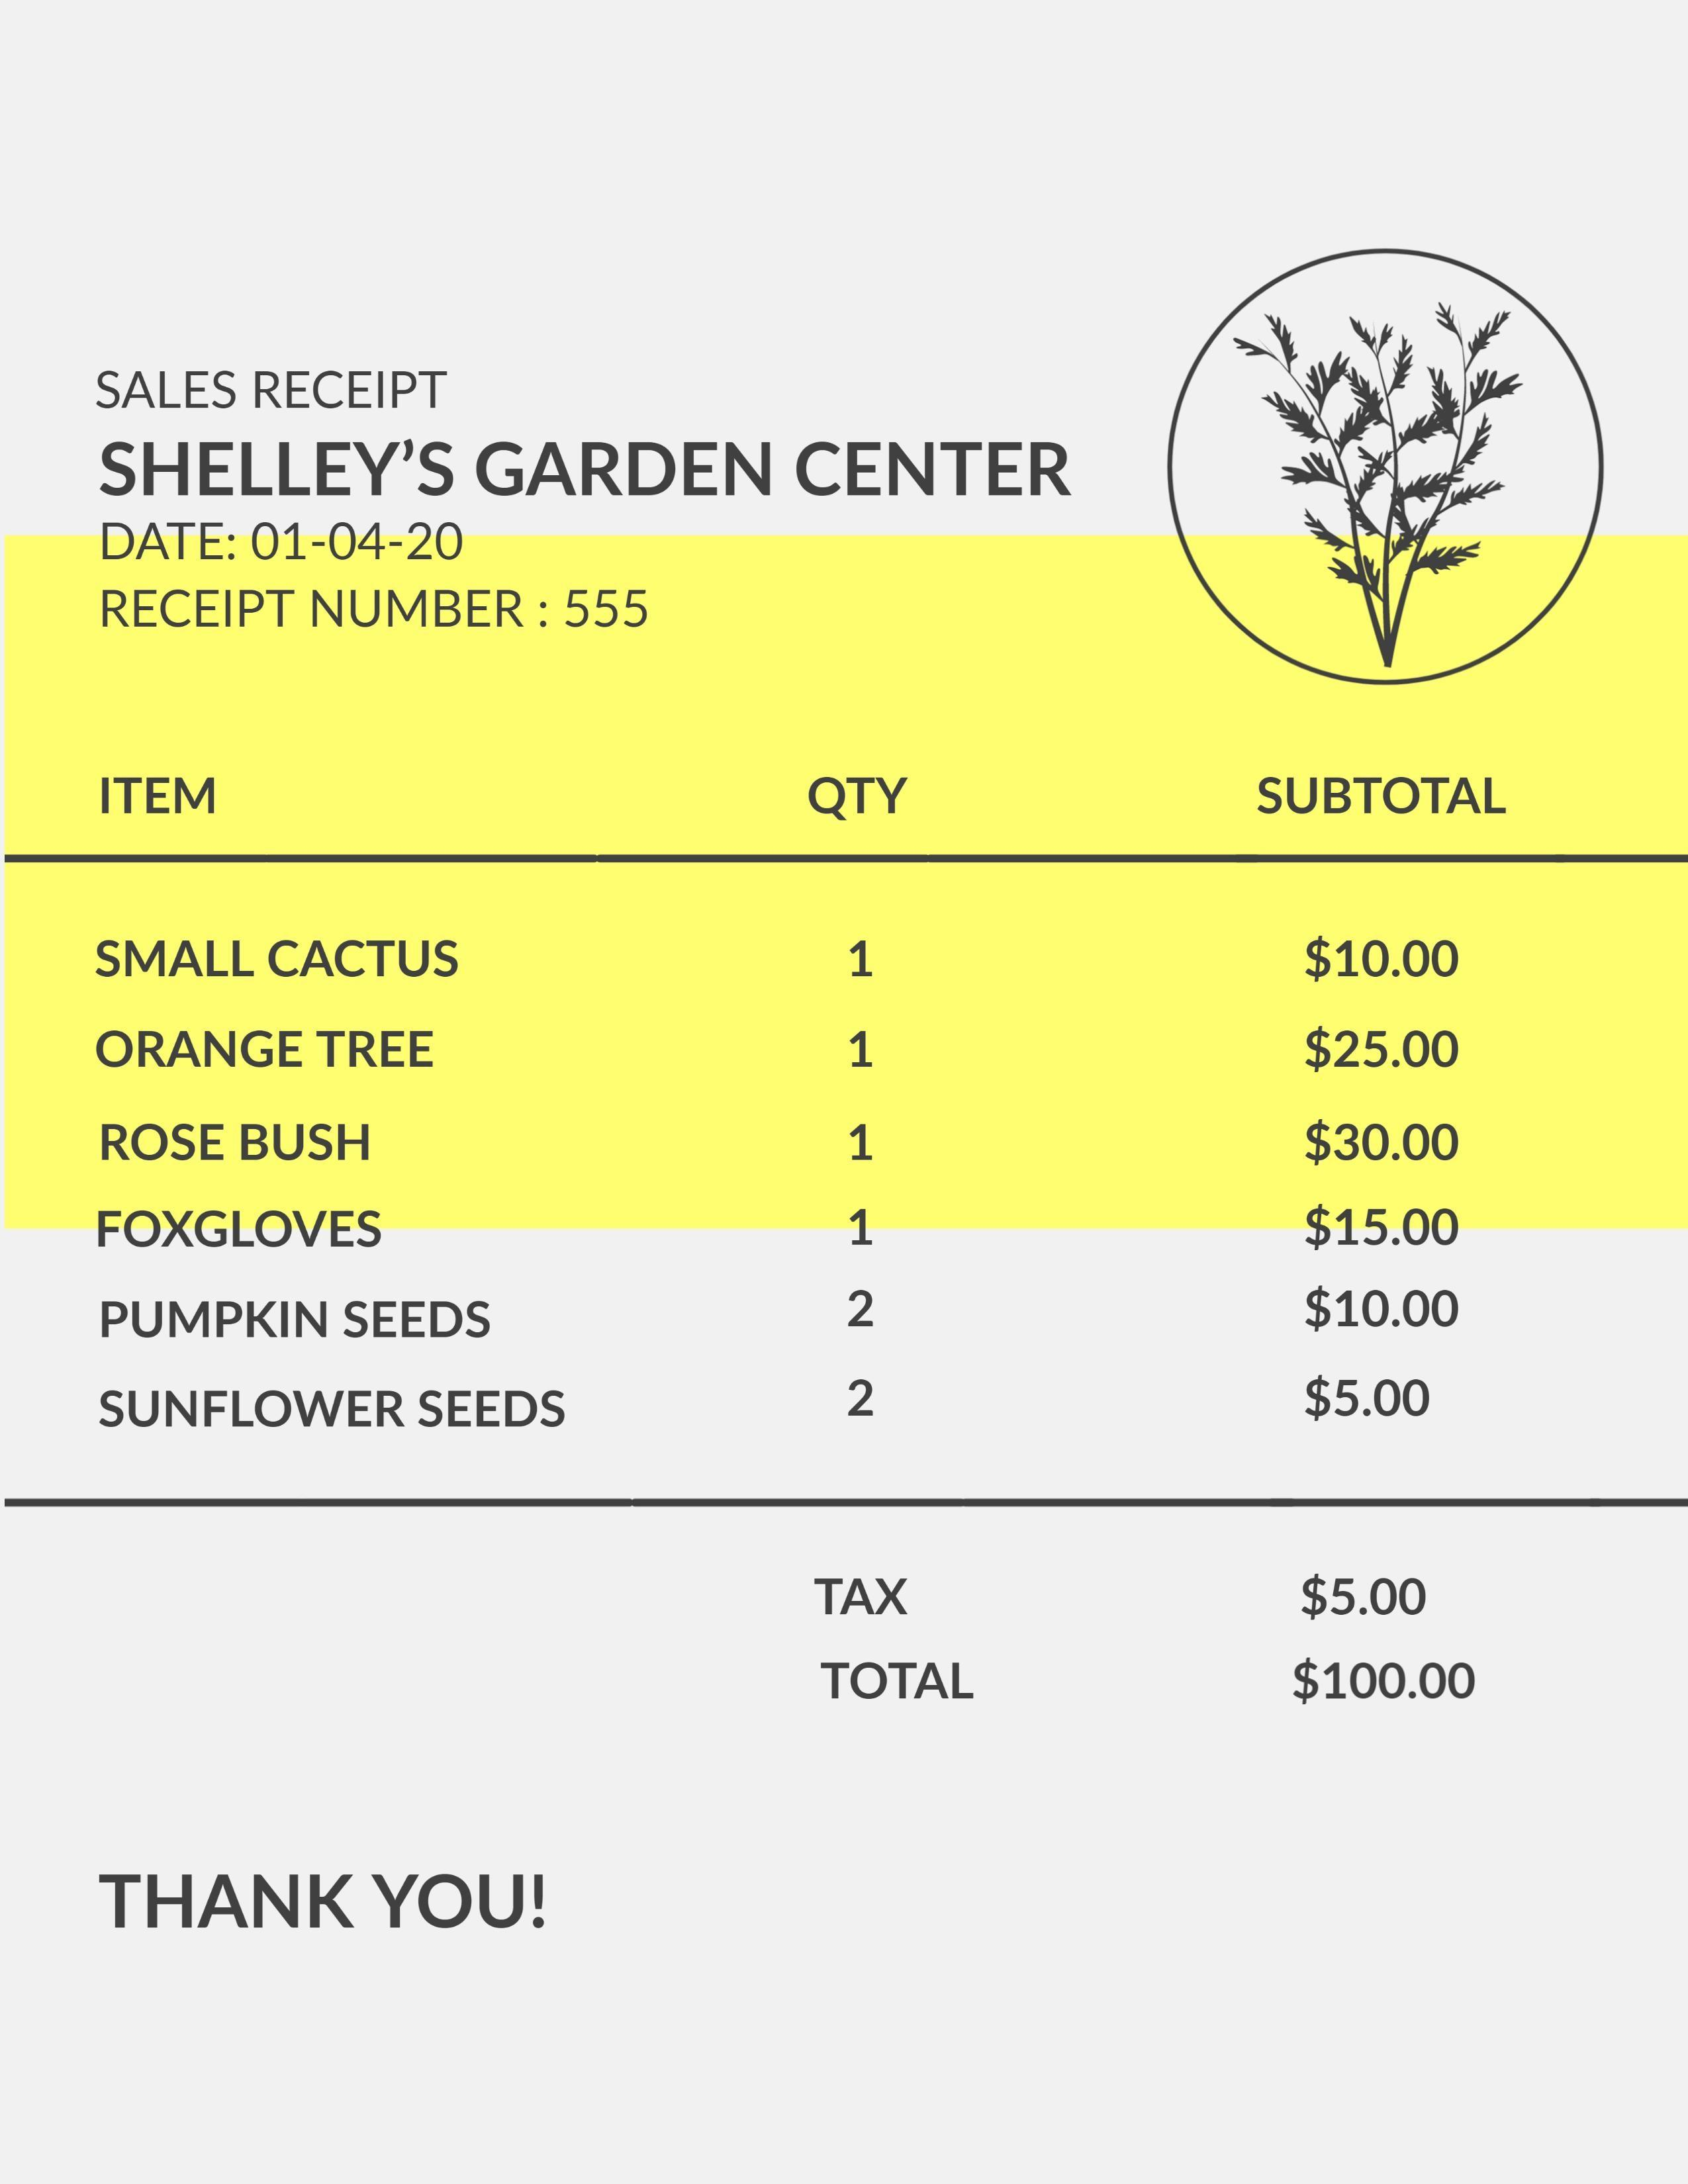ROI: (62, 768, 1523, 1482), (801, 1562, 1523, 1730), (83, 509, 707, 649), (87, 417, 1092, 503)
